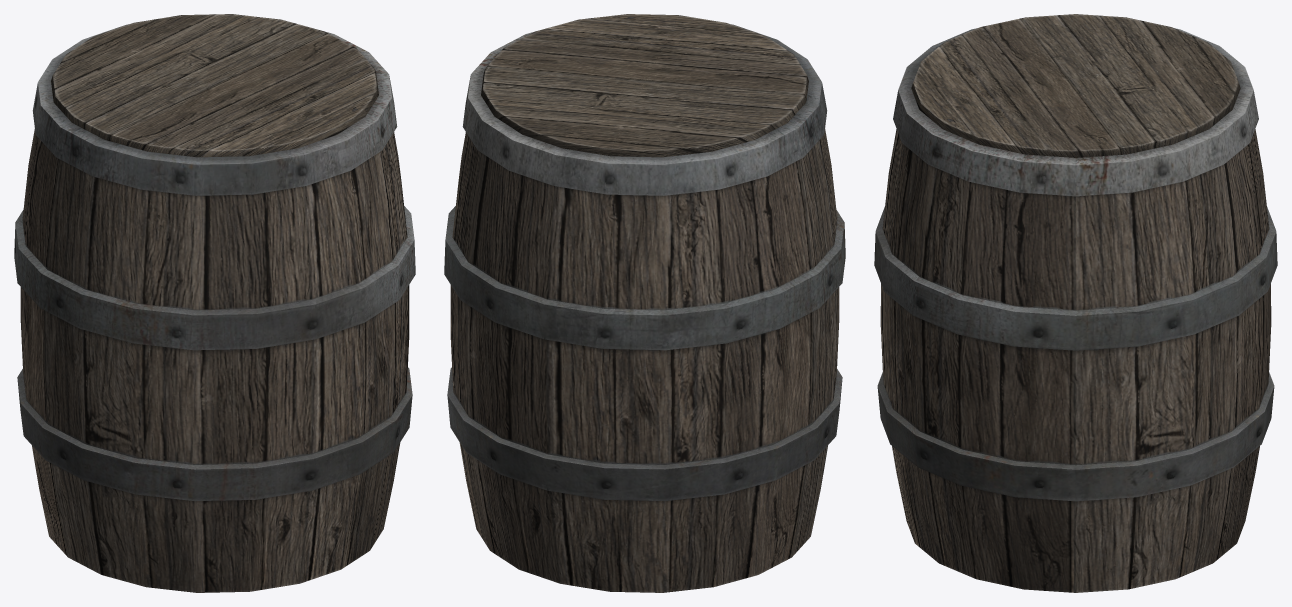
Rendered from BarrelClosed0.fbx.
3 views of the same model, side by side, from view 1: azimuth 30°, elevation 25°; view 2: azimuth 150°, elevation 25°; view 3: azimuth 270°, elevation 25° (orthographic).
Visible parts, largest first — view 1: Default_Layer; view 2: Default_Layer; view 3: Default_Layer.
Part boxes in pixels (box(x1,y1,x2,y2)): Default_Layer: box(14, 14, 415, 592); Default_Layer: box(444, 14, 845, 592); Default_Layer: box(874, 14, 1277, 592).
Bounding box in the file's own units: 123 × 148 × 123.
Materials: 1 (1 with a texture image).
